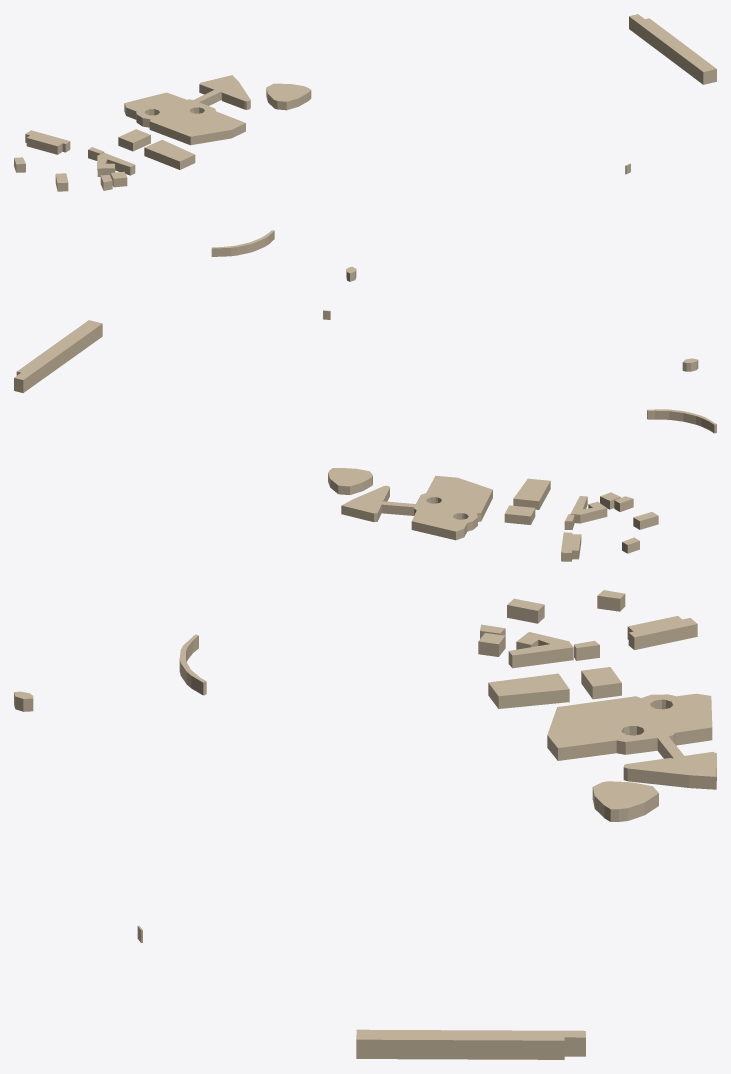
The model's file is 8_4-estimated-coarse.glb.
3 views of the same model, one above another, from view 1: azimuth 30°, elevation 25°; view 2: azimuth 150°, elevation 25°; view 3: azimuth 270°, elevation 25° (orthographic). The views are drawn at different scales.
Bounding box in the file's own units: 916 × 18 × 595.
